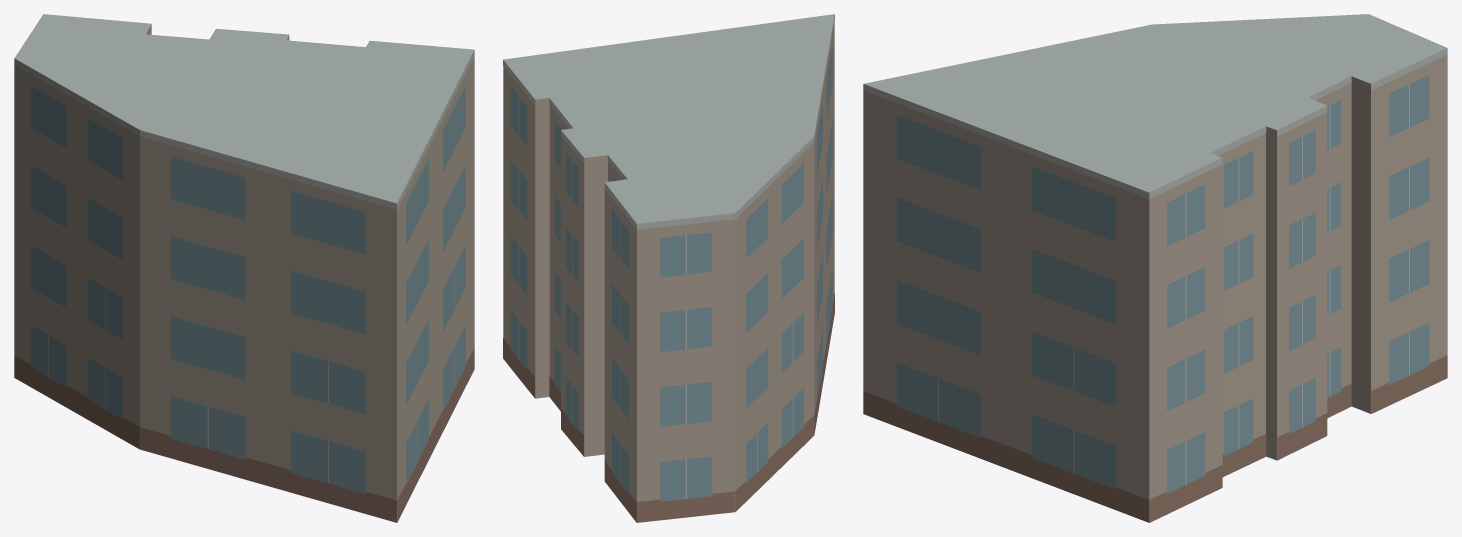
Rendered from survey-upis-32705492.glb.
3 renders of one model, left to right at view 1: azimuth 30°, elevation 25°; view 2: azimuth 150°, elevation 25°; view 3: azimuth 270°, elevation 25°, orthographic. The views are drawn at different scales.
Parts seen in each view (by area): view 1: survey-upis-32705492.tmp; view 2: survey-upis-32705492.tmp; view 3: survey-upis-32705492.tmp.
Boxes of the visible parts, x1,y1,x2,y2 form: survey-upis-32705492.tmp: (14,14,474,522); survey-upis-32705492.tmp: (503,14,834,522); survey-upis-32705492.tmp: (863,14,1447,522).
Size of the model in its own units: 14.11 by 12.15 by 19.49.
